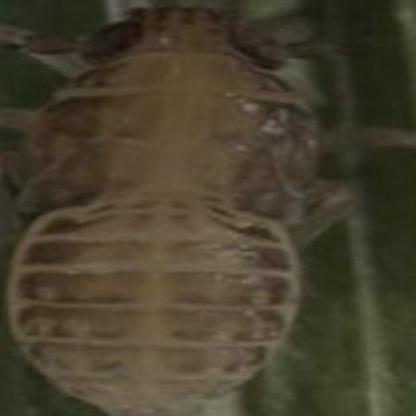brown-planthopper: (0, 8, 315, 416)
